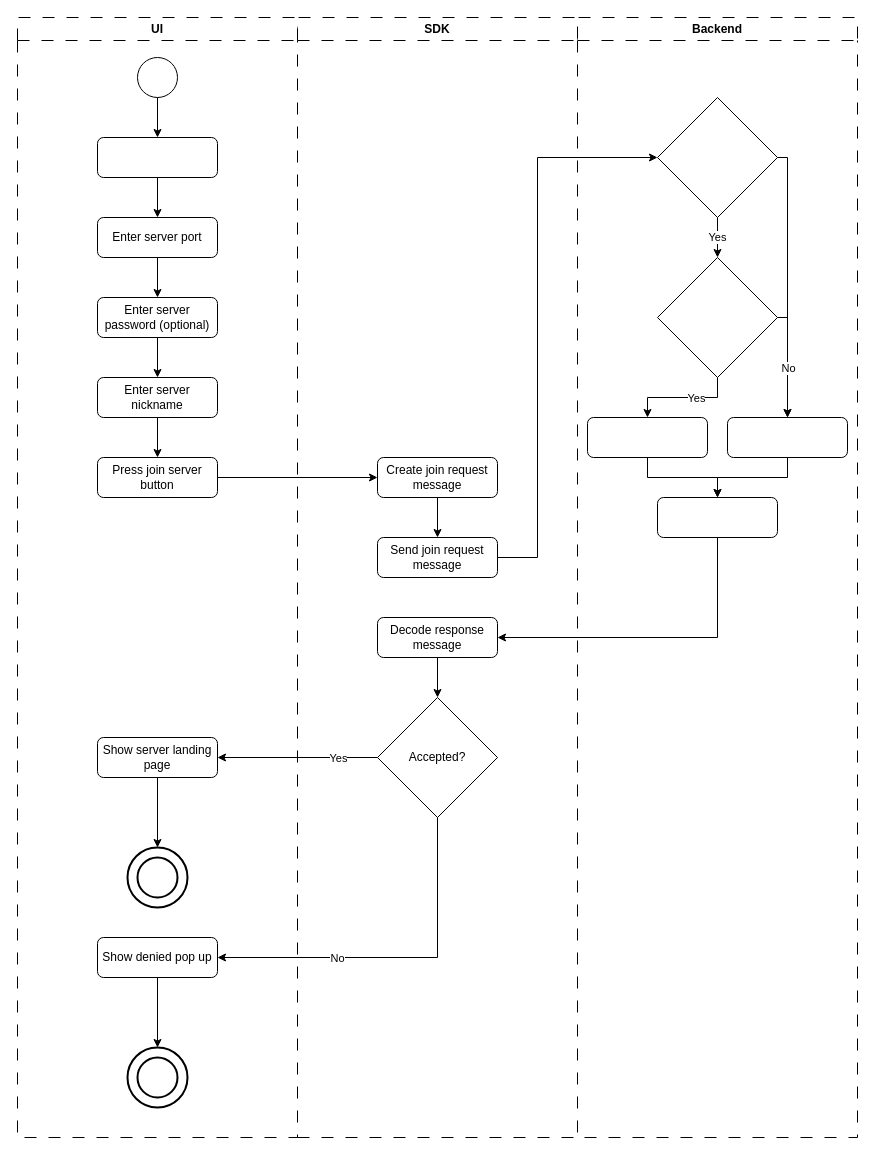
Some shapes in this 875 by 1156 pixel diagram are drawn without their labels. The centre of each missing label's shape, as x and y in pixels:
Correct password?: [717,317]
Create accept response message: [647,437]
Create deny response message: [787,437]
Enter server IP: [157,157]
Send response message: [717,517]
Server need password?: [717,157]
